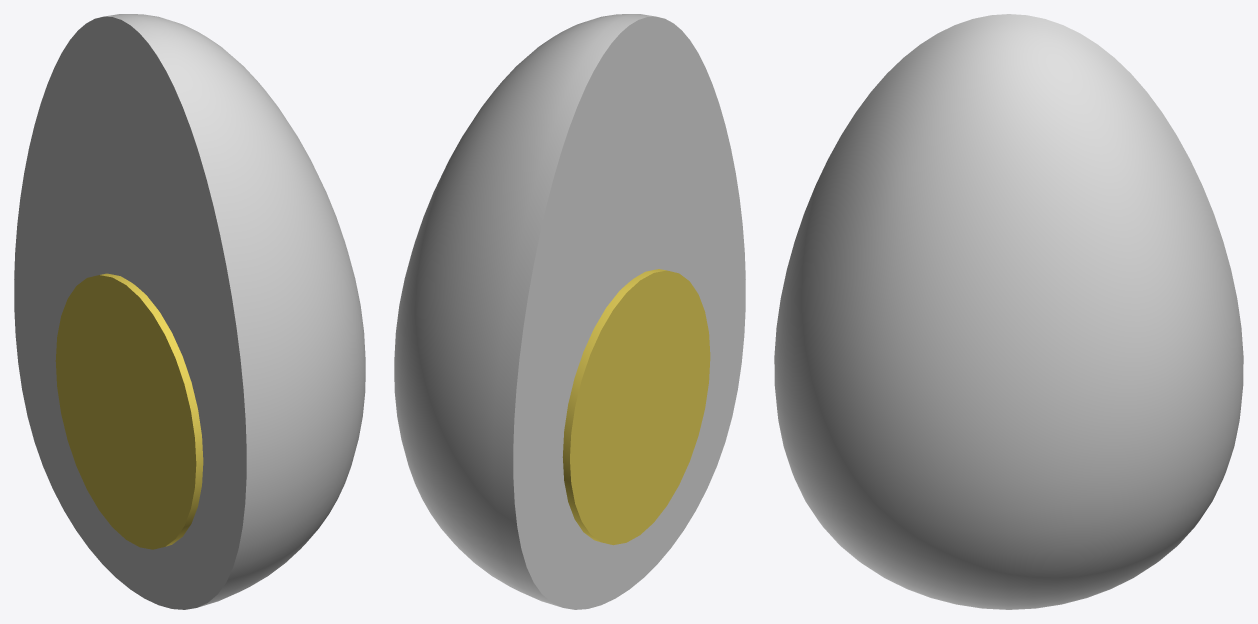
File: Boiled Egg.fbx
3 views of the same model, side by side, from view 1: azimuth 30°, elevation 25°; view 2: azimuth 150°, elevation 25°; view 3: azimuth 270°, elevation 25° (orthographic).
Parts seen in each view (by area): view 1: Cube, Sphere; view 2: Cube, Sphere; view 3: Cube.
Part boxes in pixels (left/top/right/bottom): Cube: left=14, top=14, right=365, bottom=609; Sphere: left=55, top=273, right=203, bottom=549; Cube: left=394, top=14, right=745, bottom=609; Sphere: left=562, top=269, right=710, bottom=545; Cube: left=774, top=14, right=1243, bottom=609.
Size of the model in its own units: 65.04 by 168 by 125.
